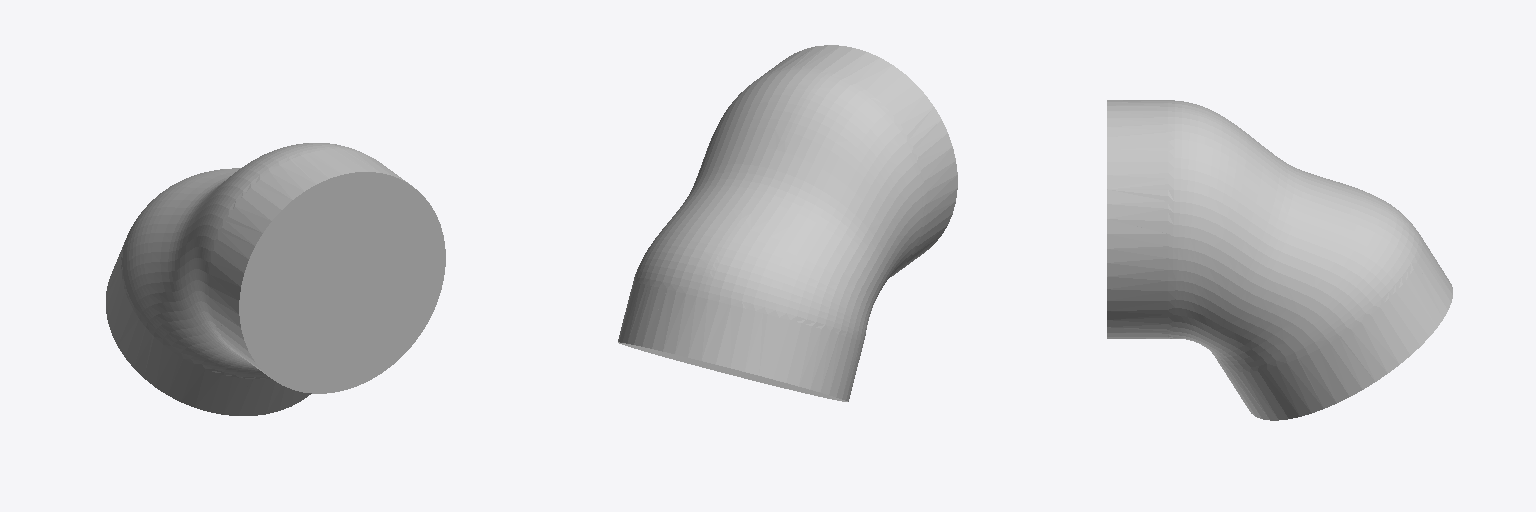
The model's file is wrist.obj.
3 views of the same model, side by side, from view 1: azimuth 30°, elevation 25°; view 2: azimuth 150°, elevation 25°; view 3: azimuth 270°, elevation 25° (orthographic).
Size of the model in its own units: 0.063 by 0.0842 by 0.0914.